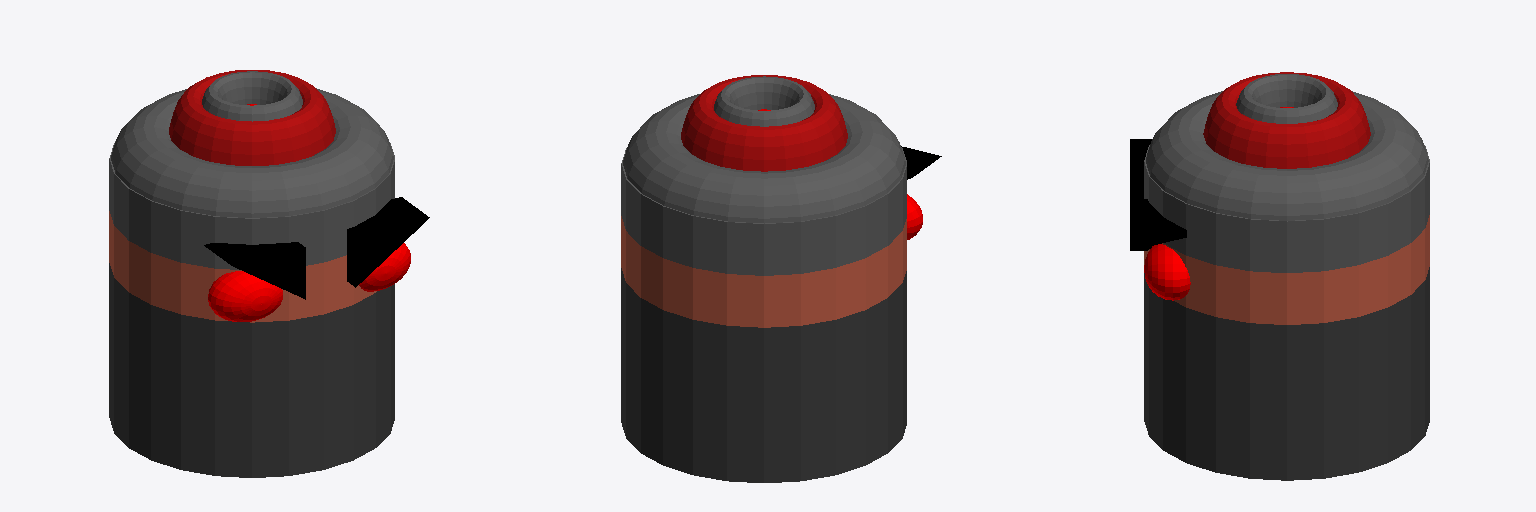
File: Character5.obj
3 renders of one model, left to right at view 1: azimuth 30°, elevation 25°; view 2: azimuth 150°, elevation 25°; view 3: azimuth 270°, elevation 25°, orthographic.
Size of the model in its own units: 1 by 1.27 by 1.05.